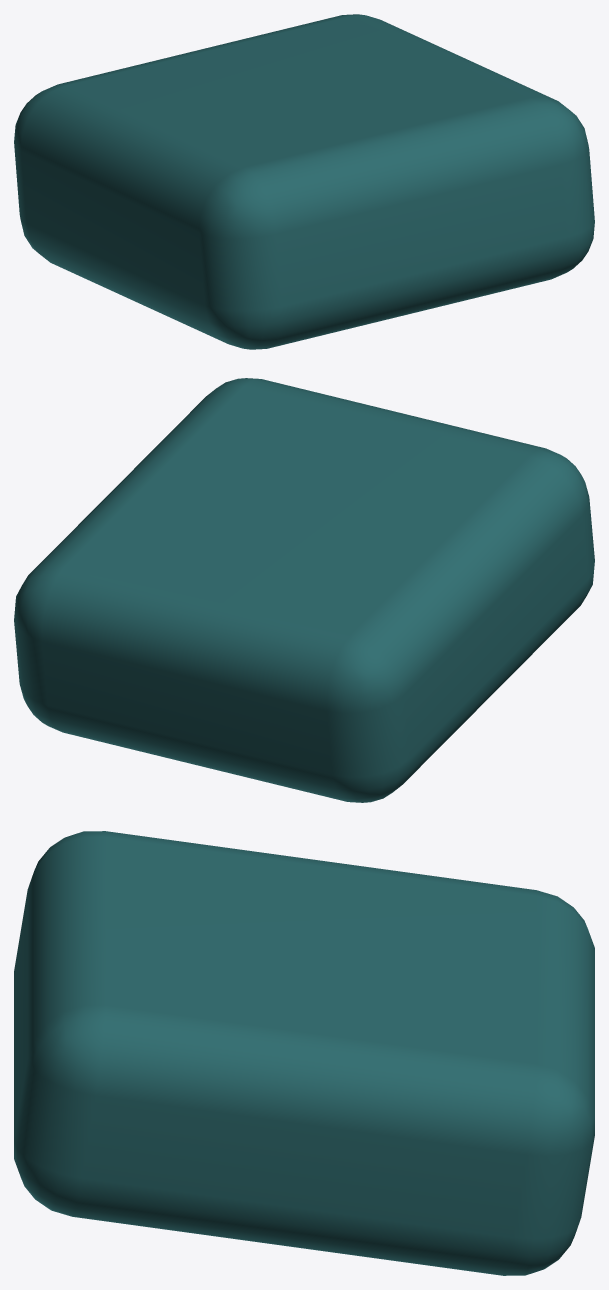
Rendered from trigger.glb.
3 views of the same model, one above another, from view 1: azimuth 30°, elevation 25°; view 2: azimuth 150°, elevation 25°; view 3: azimuth 270°, elevation 25° (orthographic). The views are drawn at different scales.
Parts seen in each view (by area): view 1: trigger_button; view 2: trigger_button; view 3: trigger_button.
Part boxes in pixels (x1,y1,x2,y2): trigger_button: (14, 14, 594, 349); trigger_button: (14, 378, 594, 802); trigger_button: (14, 831, 594, 1275).
Size of the model in its own units: 0.028 by 0.0153 by 0.0304.
